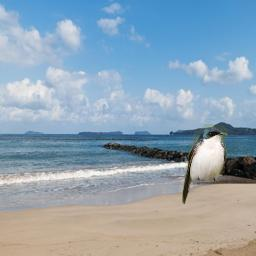Swallow: (182, 124, 228, 204)
